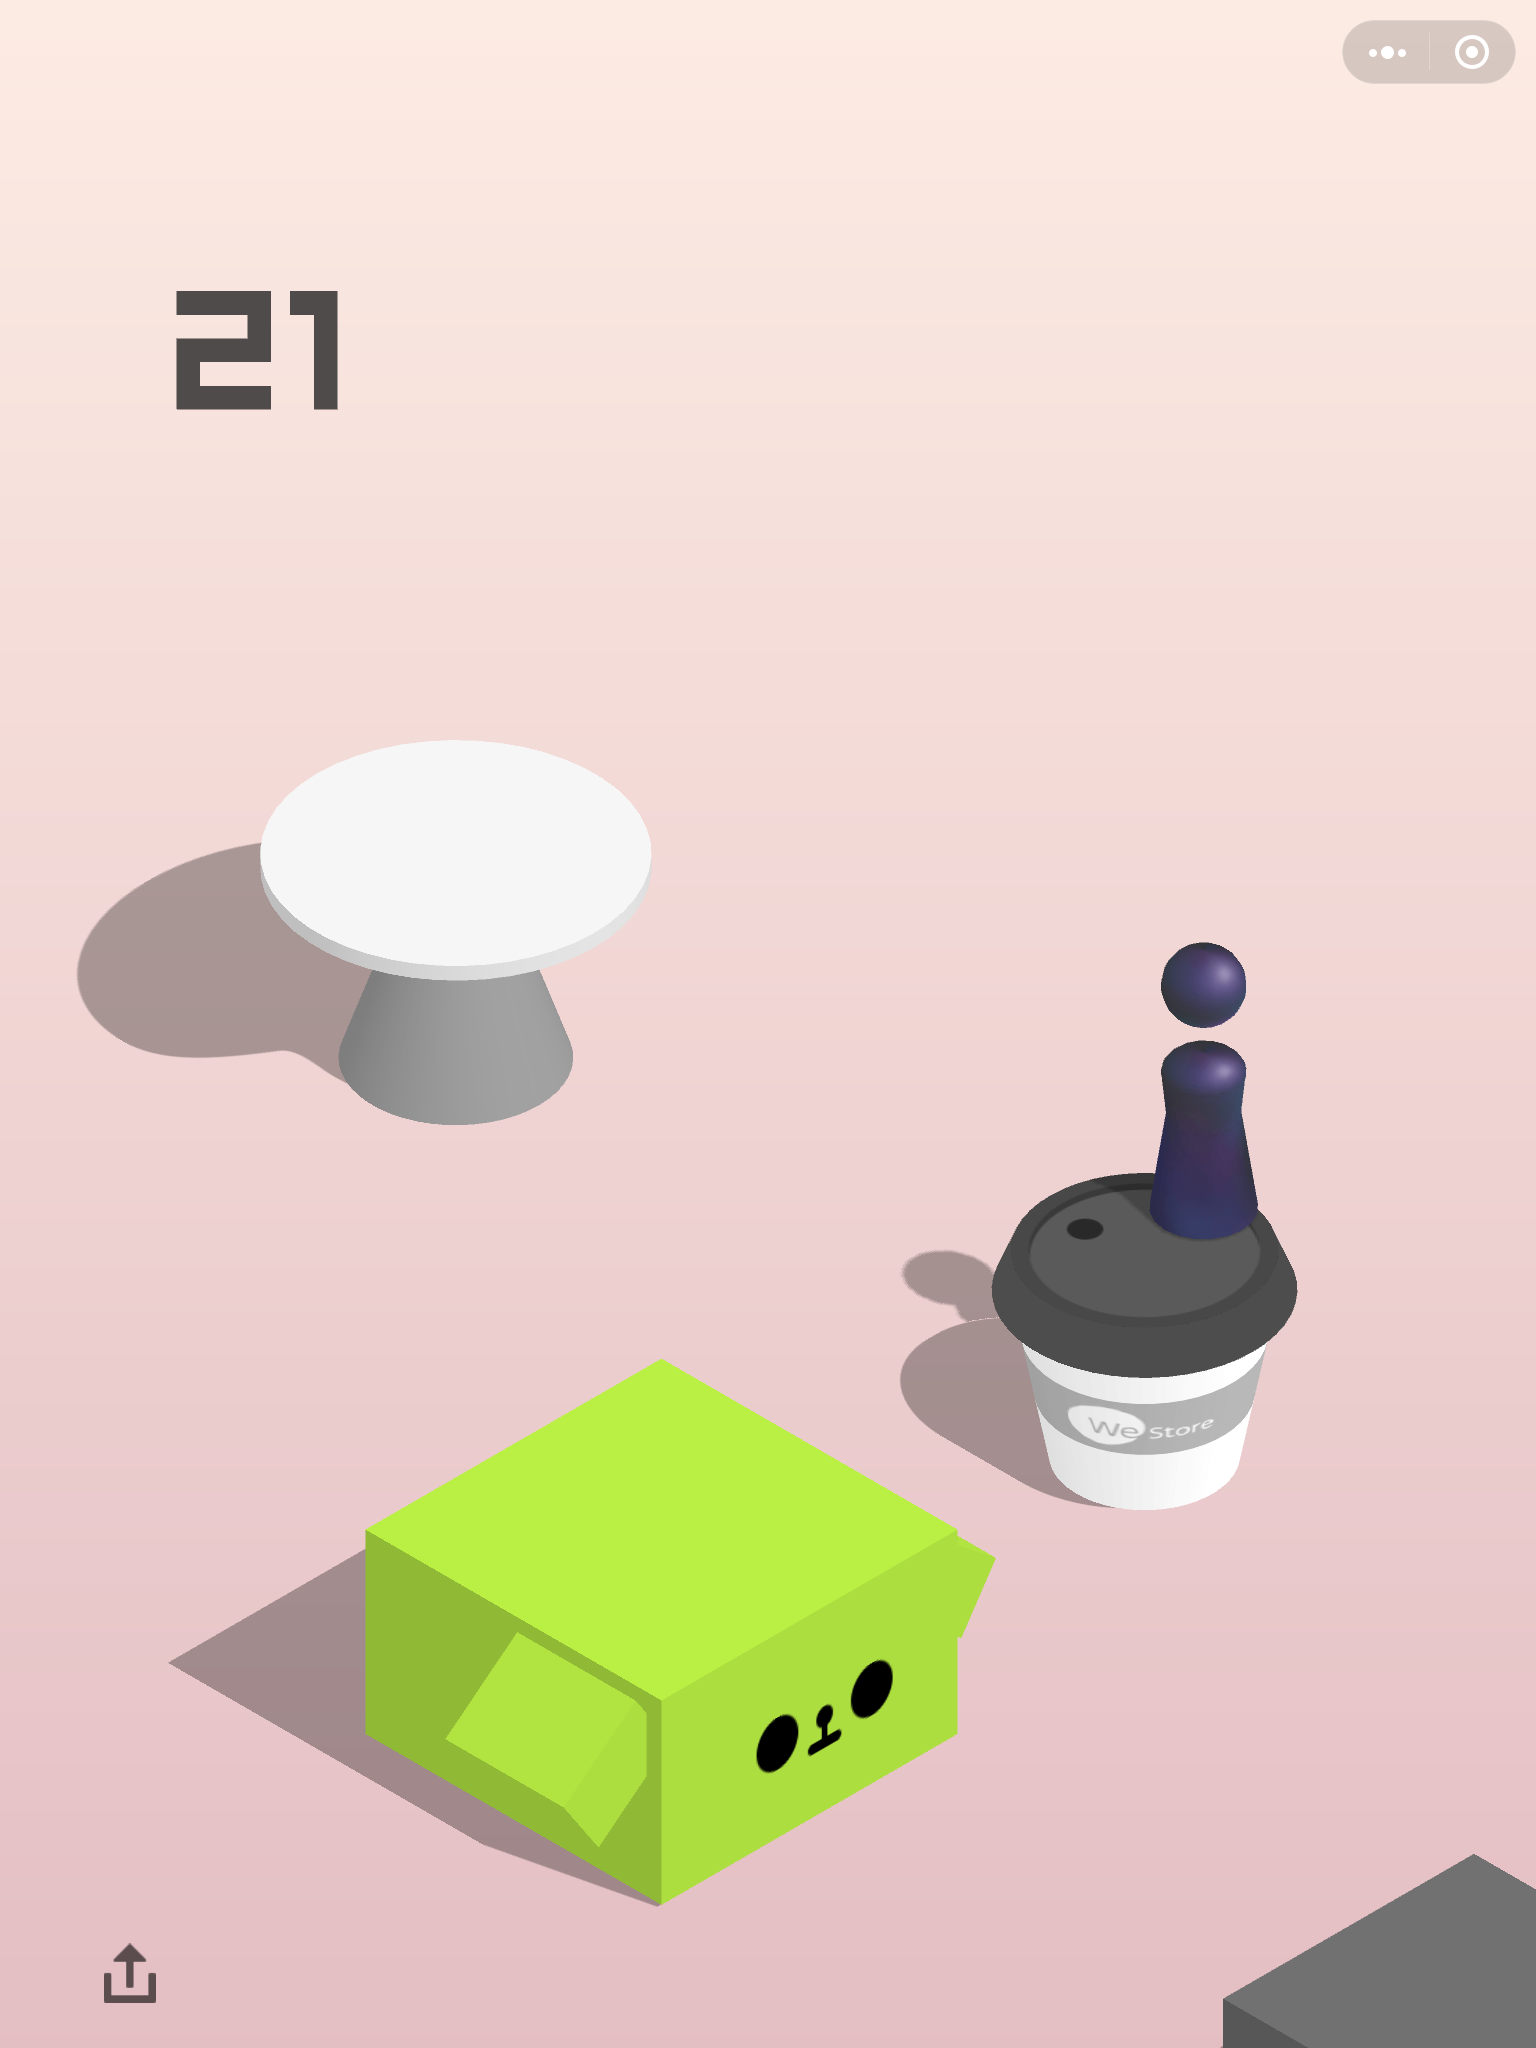c: (257, 729, 660, 1130), (987, 1169, 1300, 1514)
f: (360, 1356, 995, 1913), (1225, 1851, 1534, 2048)
r: (1147, 937, 1260, 1243)
